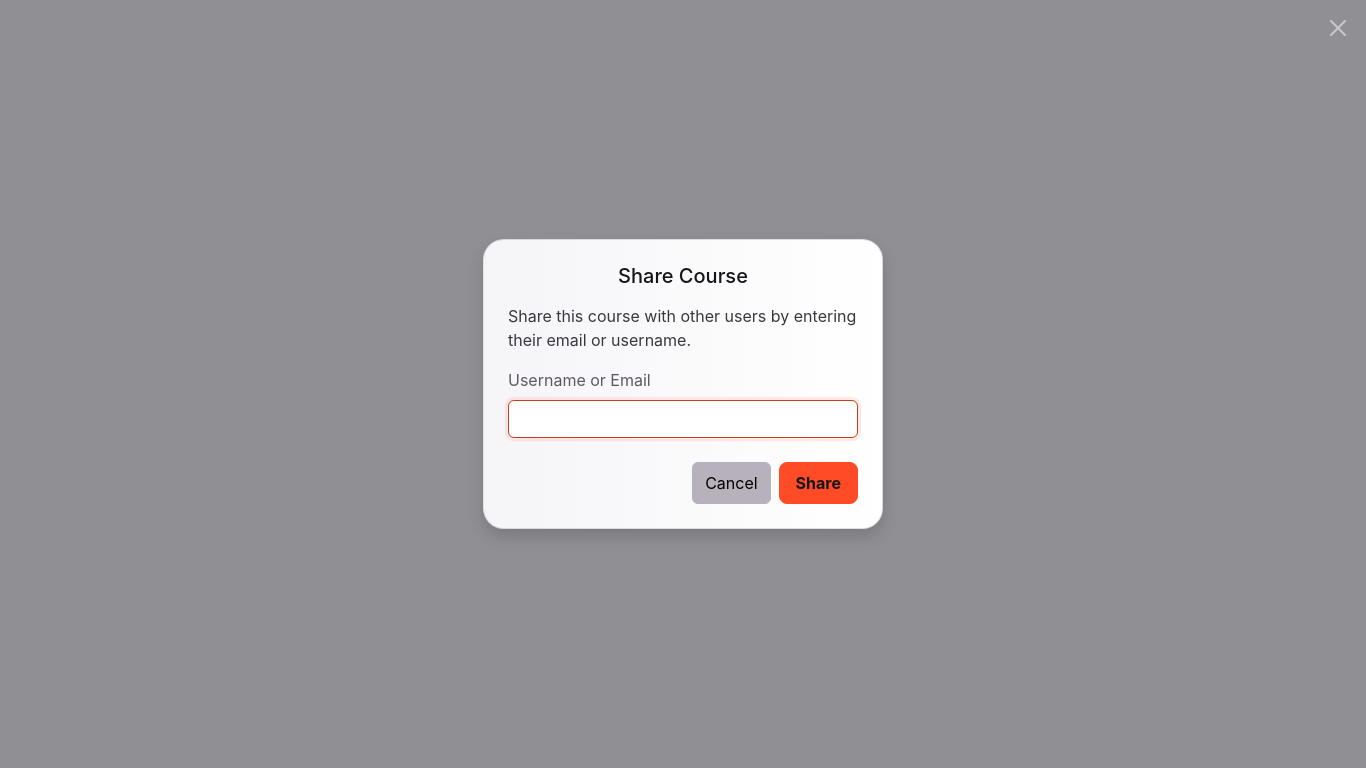
Scenario: ShareCourseModal › shows an error message when sharing fails
Step 1. Type "testuser" into the field labelled "Username or Email" → (683, 419), box [508,400,858,438]
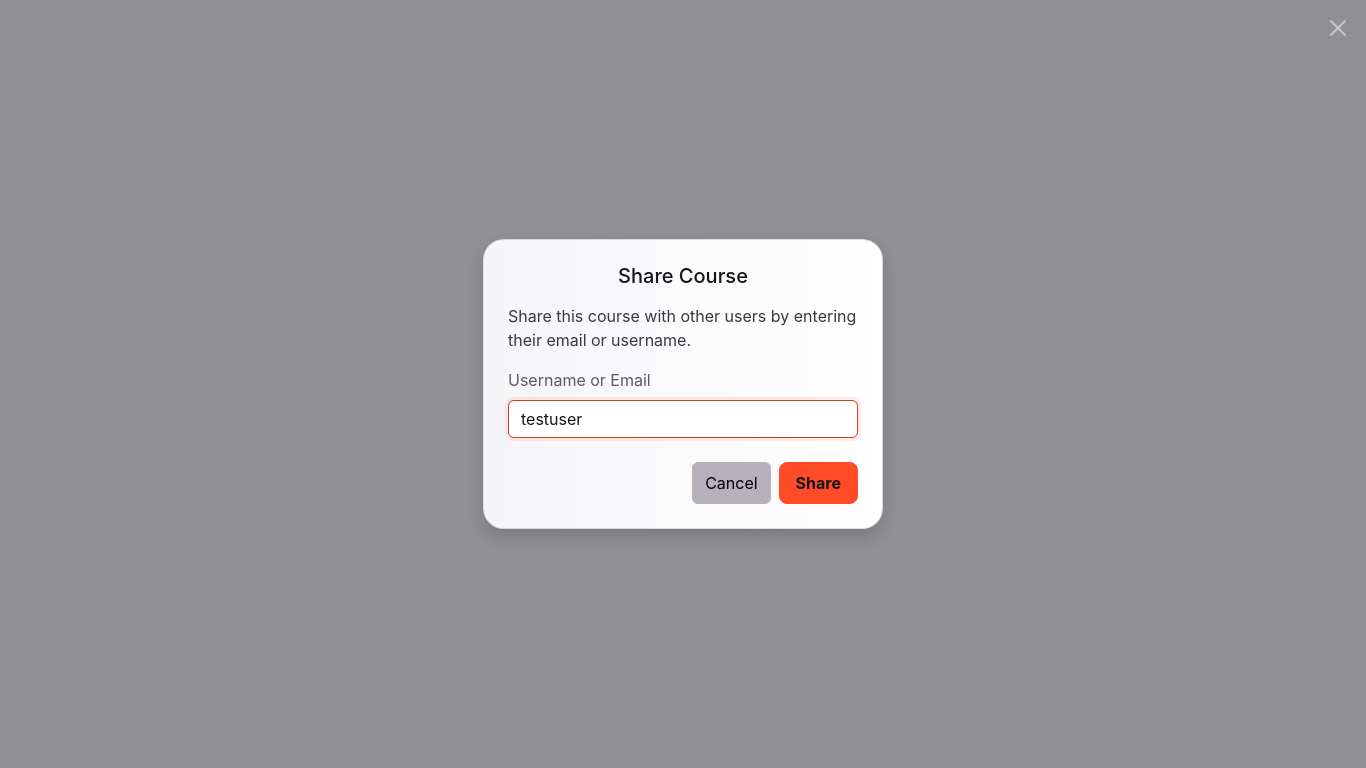
Step 2. Click the button "Share" → (818, 483), box [779,462,858,504]
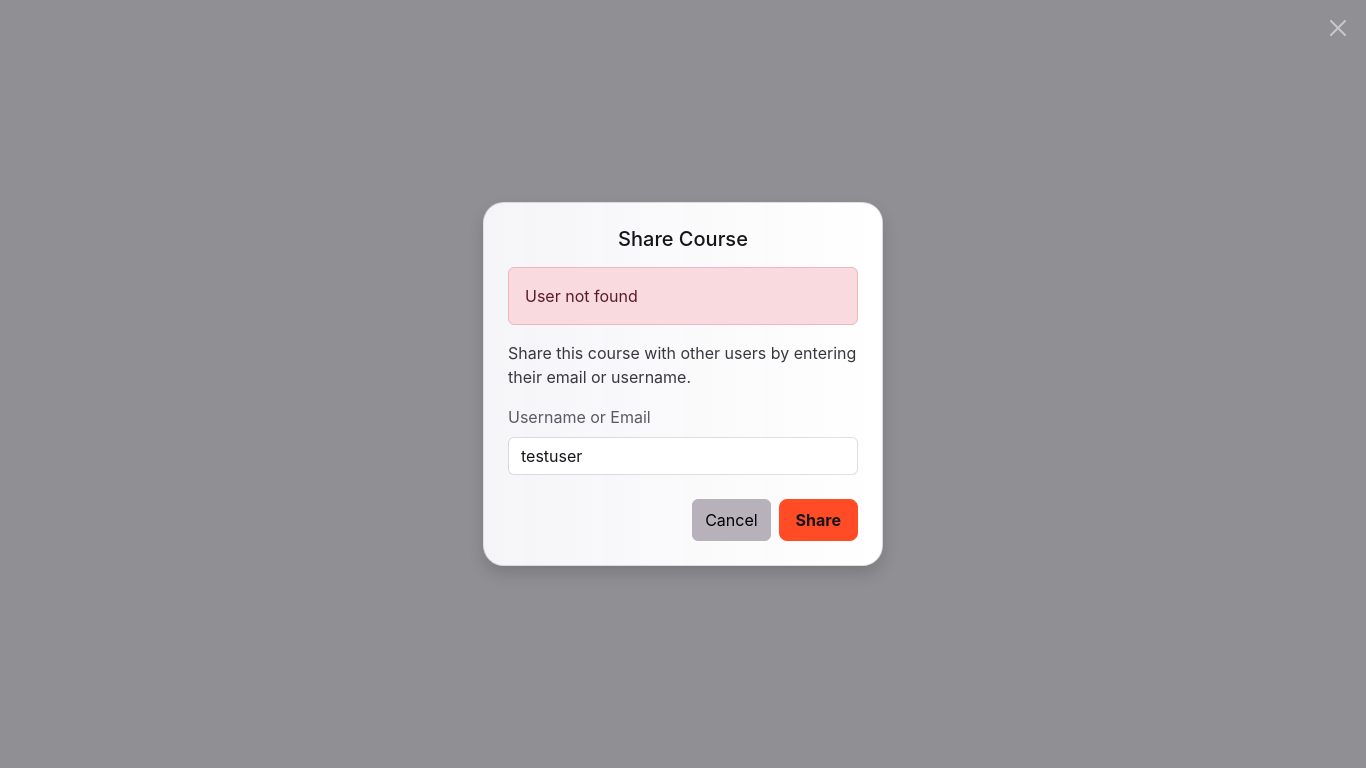
Result: the text "User not found" is shown at [508,267,858,325]
